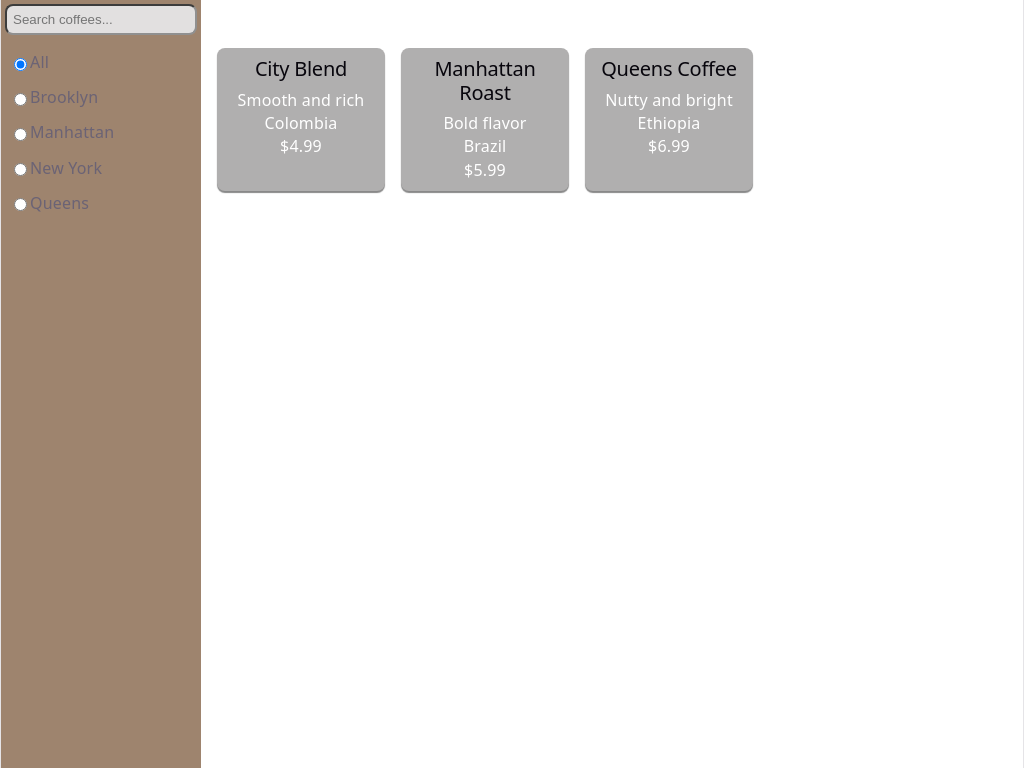
Test: ShopPage › updates displayed coffees when a different location is selected
Click the radio button labelled "Manhattan" at (20, 134), box [14,128,27,141]
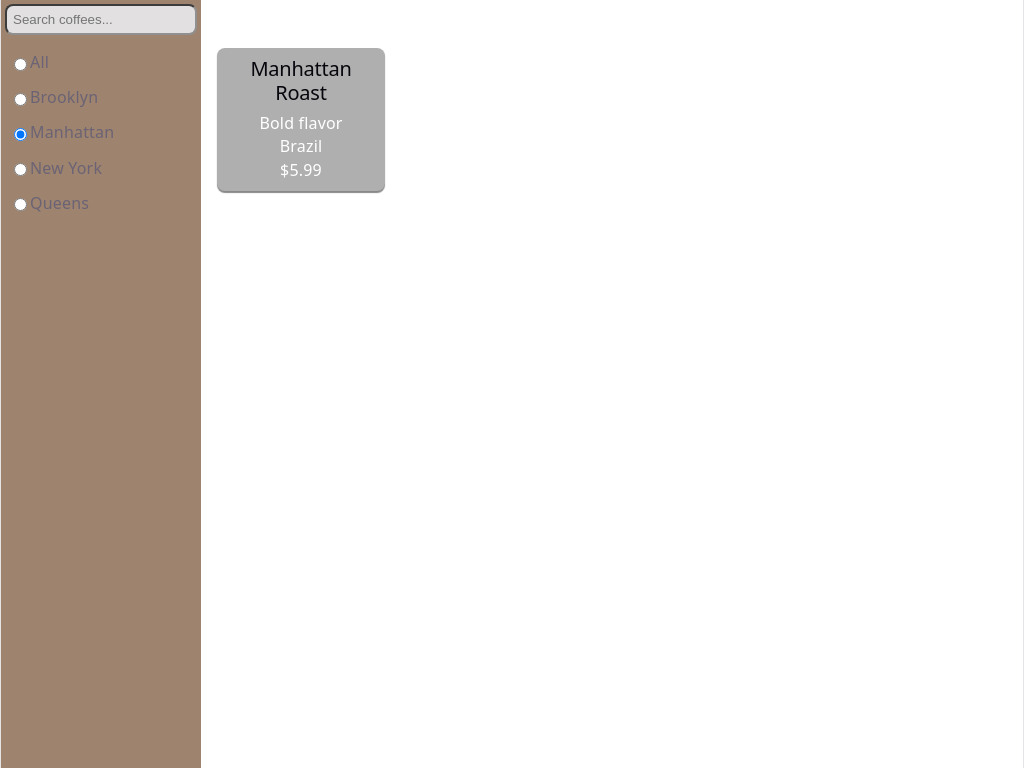
expect the heading "Manhattan Roast" is shown: met, box [250,55,352,106]
expect the heading "City Blend" is gone: met
expect the heading "Queens Coffee" is gone: met
